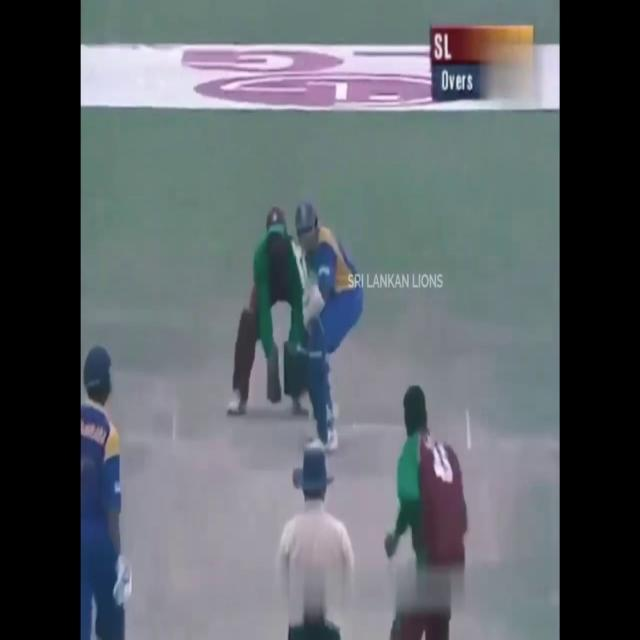Batsman: (285, 194, 363, 459)
